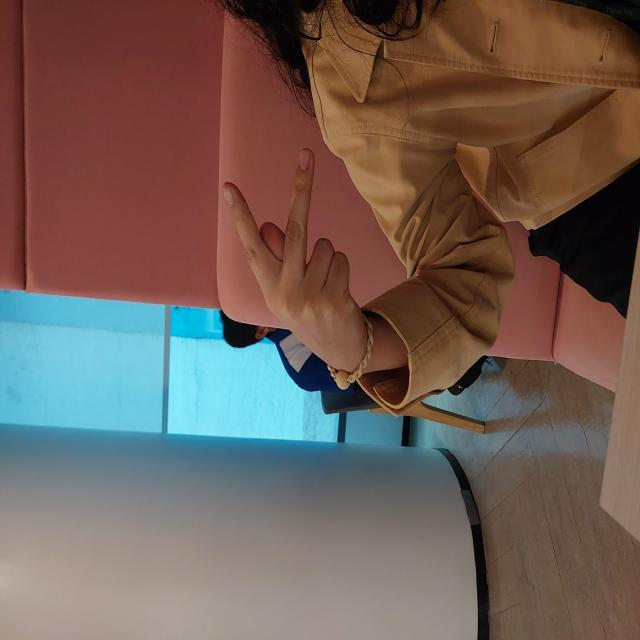K: (257, 217, 501, 372)
